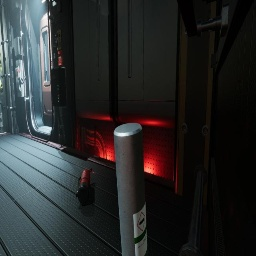0: (114, 123, 148, 256)
EmergencyPhone ,: (55, 25, 62, 51)
FireAlarm ,: (58, 50, 63, 66)
FireExtinguisher ]: (76, 168, 92, 204)
SafetySwitchPanel ,: (15, 60, 26, 97)
